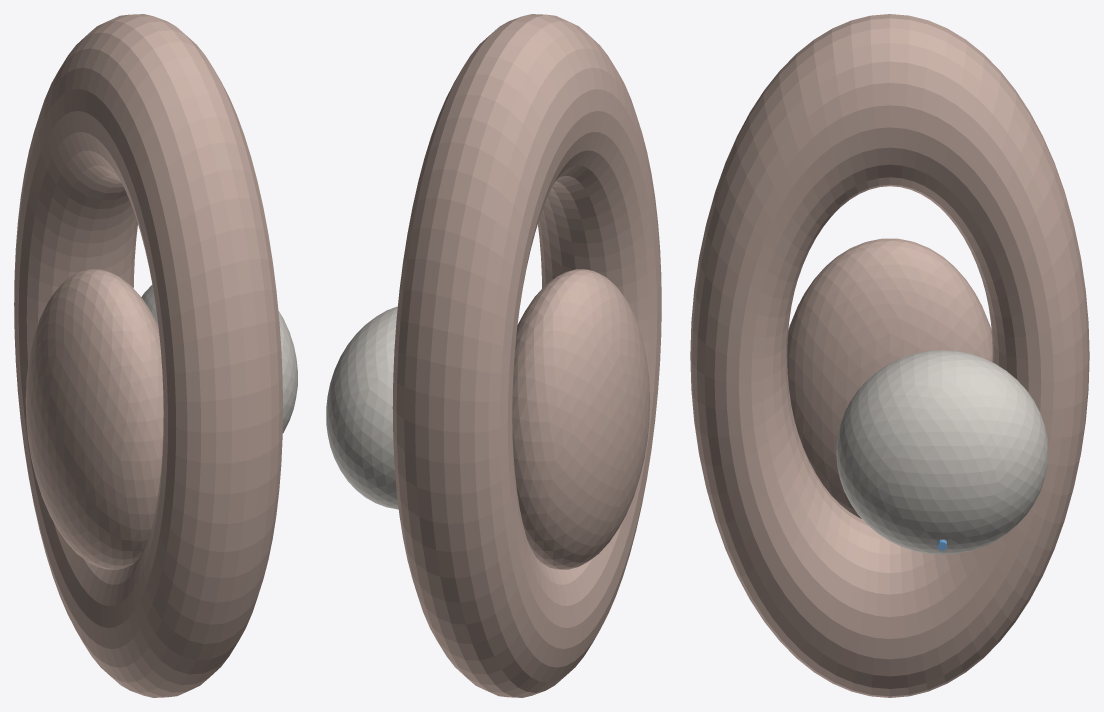
File: aid_in_ear_b.glb
3 views of the same model, side by side, from view 1: azimuth 30°, elevation 25°; view 2: azimuth 150°, elevation 25°; view 3: azimuth 270°, elevation 25° (orthographic).
Visible parts, largest first — view 1: ear, shell; view 2: ear, shell; view 3: ear, shell.
Boxes of the visible parts, x1,y1,x2,y2 form: ear: (14, 14, 282, 697); shell: (141, 285, 297, 433); ear: (392, 14, 661, 697); shell: (326, 306, 398, 509); ear: (690, 14, 1089, 697); shell: (836, 350, 1048, 554).
Bounding box in the file's own units: 23.1 × 56.86 × 30.46.
